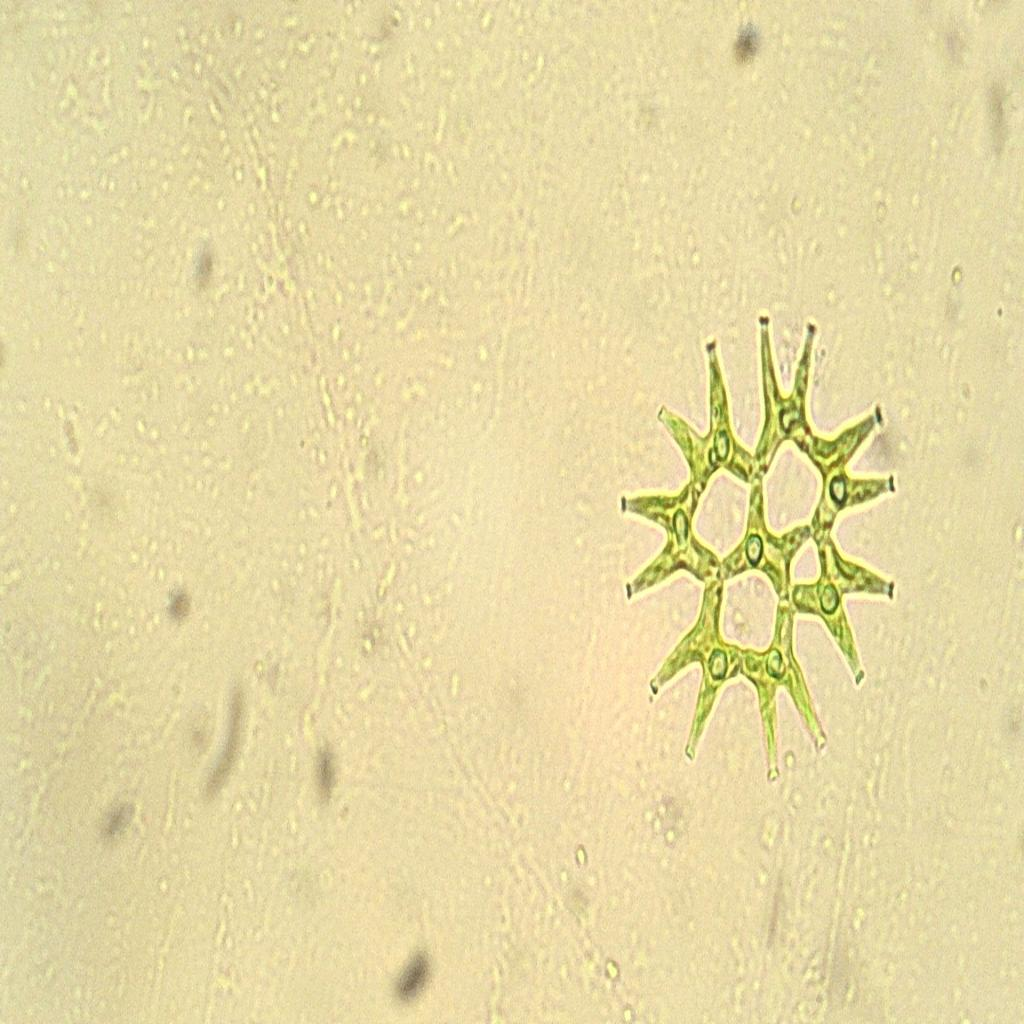Pediastrum_CTH: (597, 289, 922, 792)
